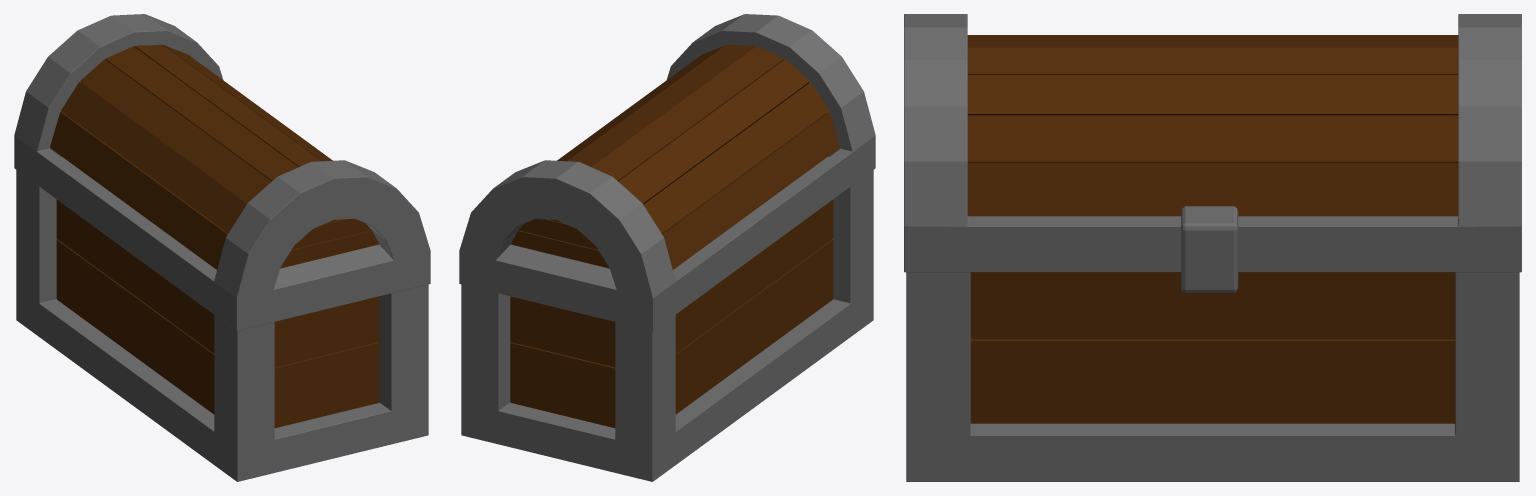
Rendered from Chest.fbx.
The picture shows the model from 3 angles, left to right: view 1: azimuth 30°, elevation 25°; view 2: azimuth 150°, elevation 25°; view 3: azimuth 270°, elevation 25°; orthographic projection. The views are drawn at different scales.
Parts seen in each view (by area): view 1: Cylinder.001; view 2: Cylinder.001; view 3: Cylinder.001.
Part boxes in pixels (<box>): Cylinder.001: <box>14,14,430,481</box>; Cylinder.001: <box>459,14,875,481</box>; Cylinder.001: <box>904,14,1521,481</box>.
Size of the model in its own units: 217 by 280 by 403.
